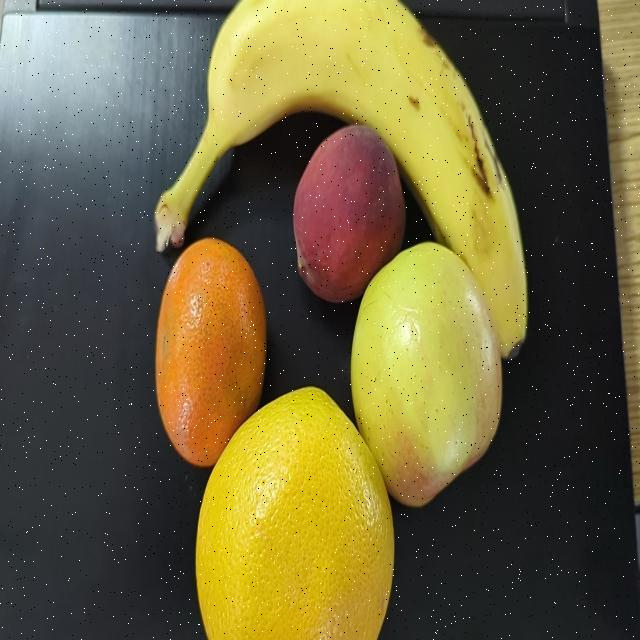Apel Gala: (358, 254, 520, 548)
Jeruk: (192, 370, 394, 640)
Jeruk Mandarin: (139, 210, 272, 480)
Persik: (288, 124, 404, 310)
Pisang: (161, 15, 528, 344)
